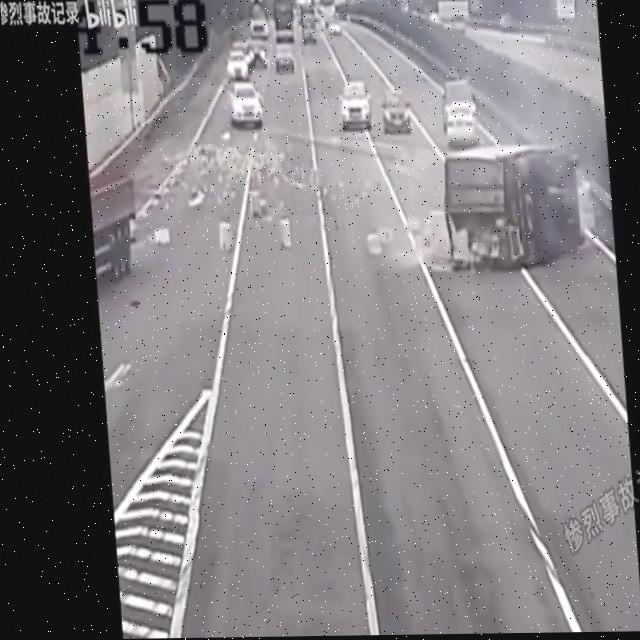normal: (224, 4, 484, 134)
single accident: (434, 133, 559, 261)
